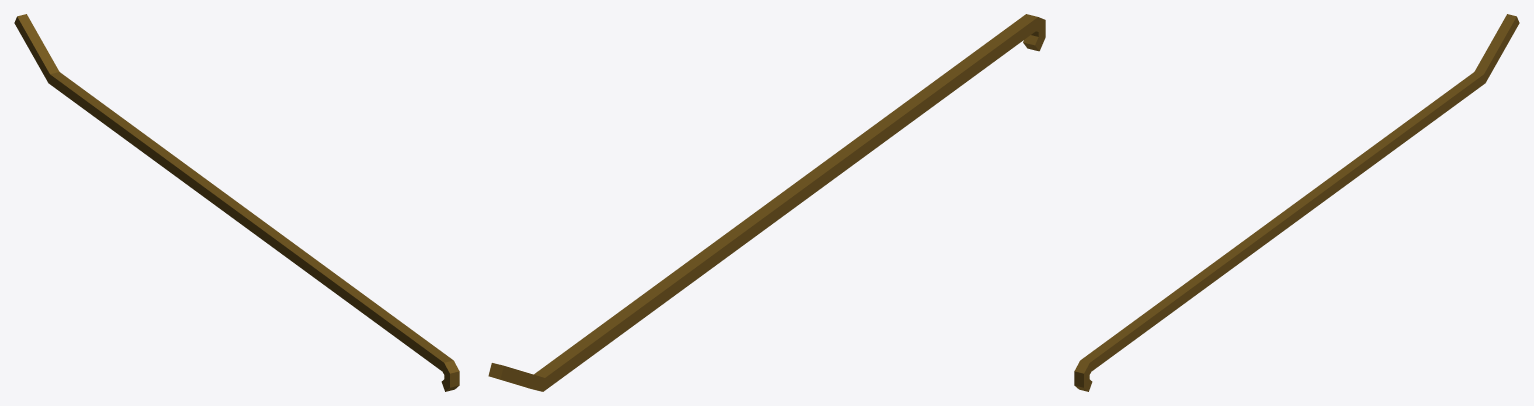
File: original-45.obj
3 renders of one model, left to right at view 1: azimuth 30°, elevation 25°; view 2: azimuth 150°, elevation 25°; view 3: azimuth 330°, elevation 25°, orthographic. The views are drawn at different scales.
Parts seen in each view (by area): view 1: mesh62/mesh62-geometry#mesh62-geometry; view 2: mesh62/mesh62-geometry#mesh62-geometry; view 3: mesh62/mesh62-geometry#mesh62-geometry.
Boxes of the visible parts, x1=… form: mesh62/mesh62-geometry#mesh62-geometry: x1=14, y1=14, x2=459, y2=391; mesh62/mesh62-geometry#mesh62-geometry: x1=488, y1=14, x2=1045, y2=391; mesh62/mesh62-geometry#mesh62-geometry: x1=1074, y1=14, x2=1519, y2=391.
Bounding box in the file's own units: 0.0083 × 0.0512 × 0.6491.
